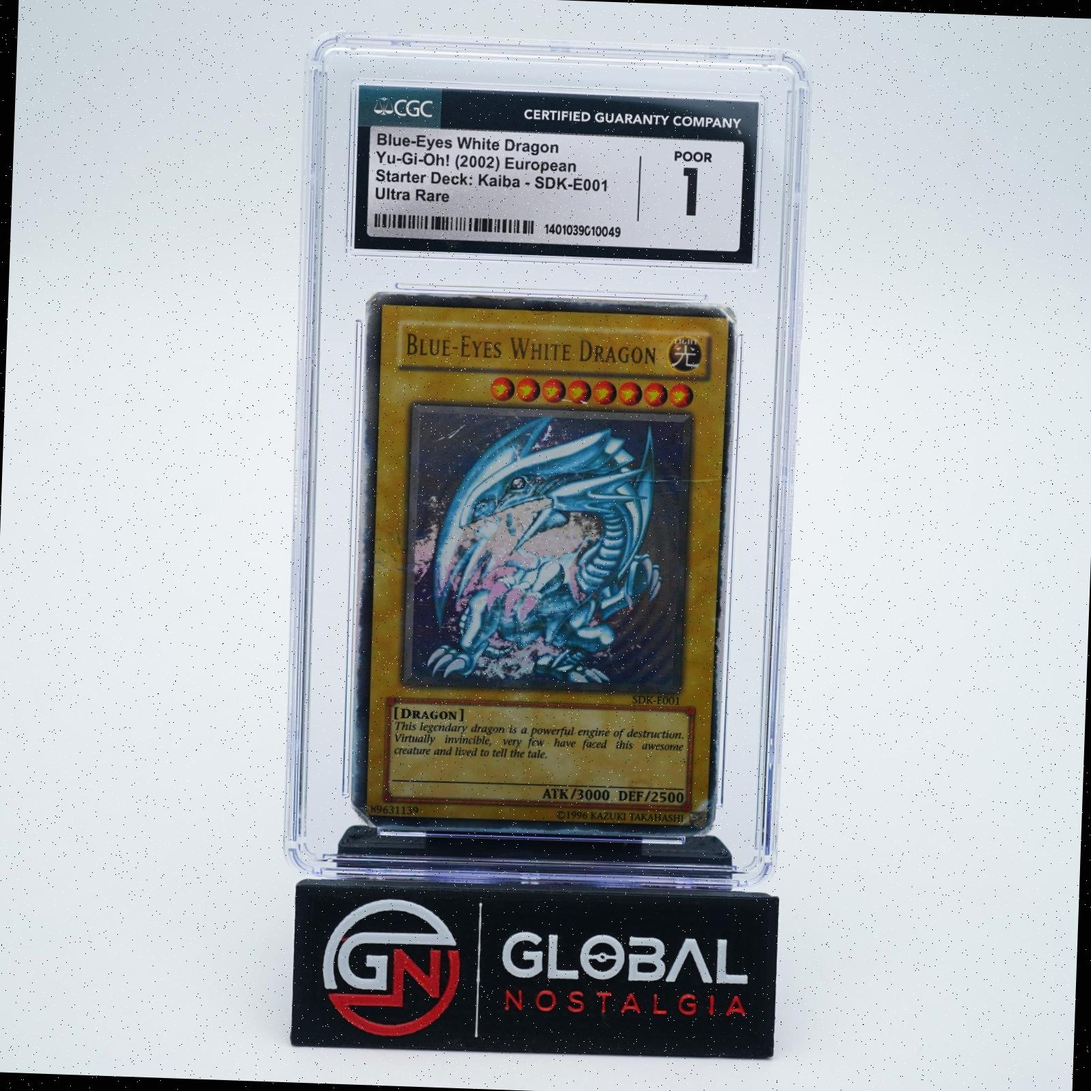card-2UtV: (350, 291, 738, 837)
